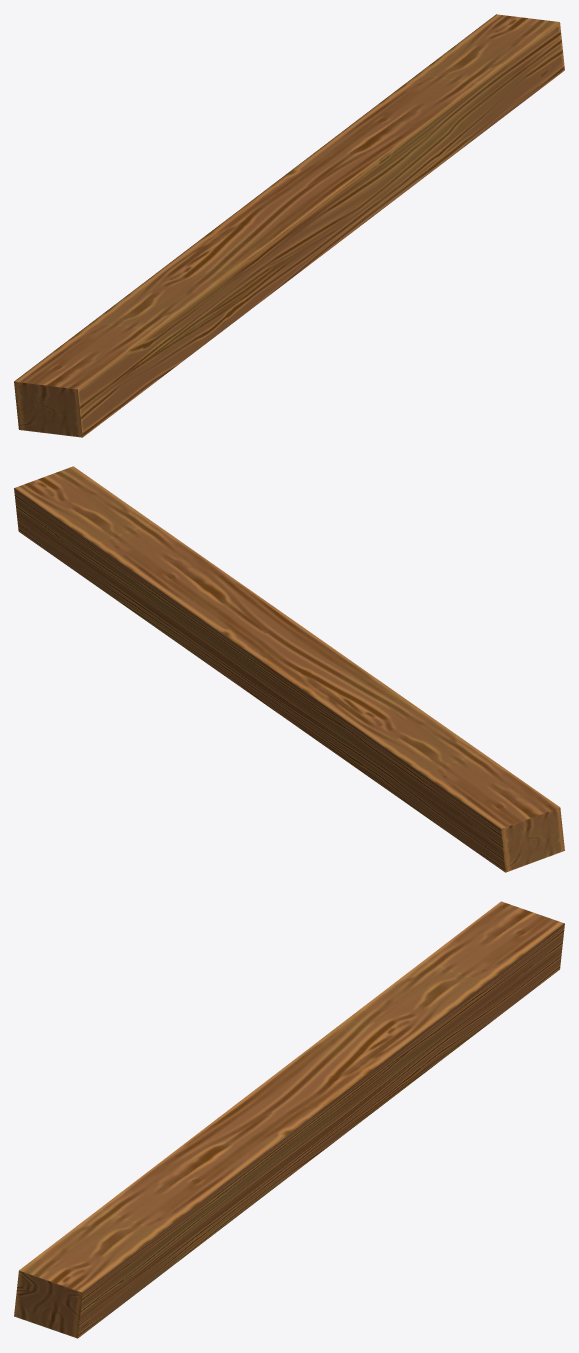
3 renders of one model, top to bottom at view 1: azimuth 90°, elevation 25°; view 2: azimuth 150°, elevation 25°; view 3: azimuth 270°, elevation 25°, orthographic. The views are drawn at different scales.
Visible parts, largest first — view 1: Cube.1953; view 2: Cube.1953; view 3: Cube.1953.
Part boxes in pixels (x1,y1,x2,y2): Cube.1953: (14, 14, 564, 437); Cube.1953: (14, 466, 564, 872); Cube.1953: (14, 901, 564, 1338).
Bounding box in the file's own units: 303 × 20.27 × 184.
Materials: 1 (1 with a texture image).
